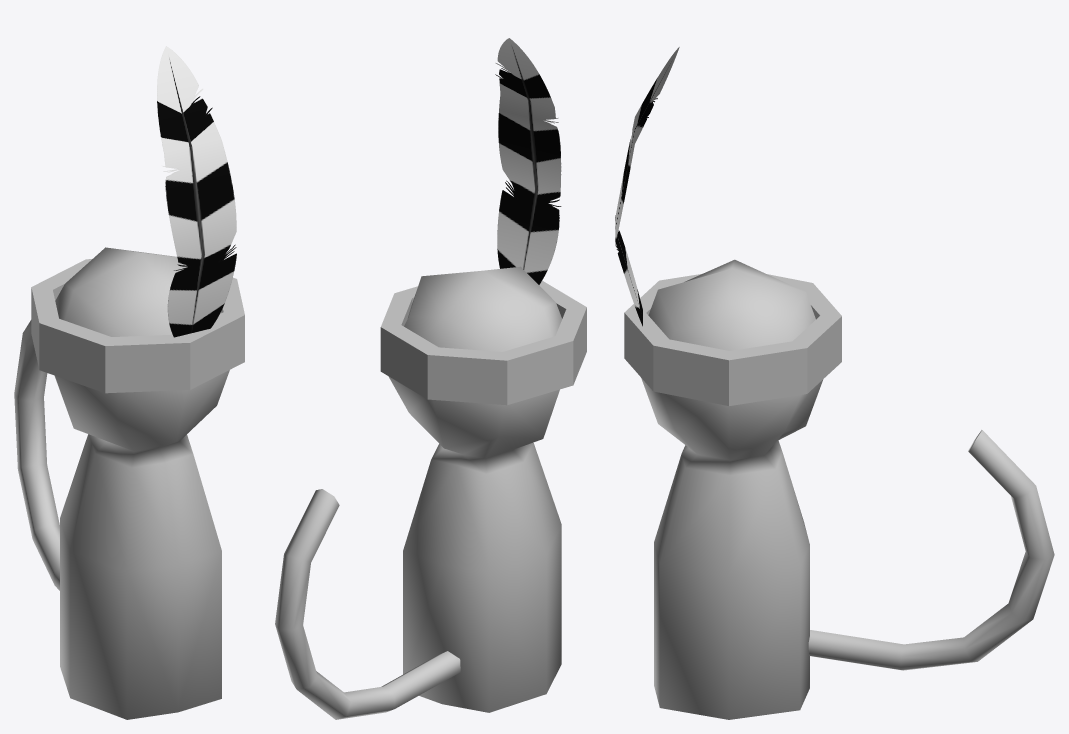
The model's file is Macaco Rei.fbx.
3 renders of one model, left to right at view 1: azimuth 30°, elevation 25°; view 2: azimuth 150°, elevation 25°; view 3: azimuth 270°, elevation 25°, orthographic. The views are drawn at different scales.
Visible parts, largest first — view 1: MacacoRei, Rabo_Macaco_Rei; view 2: MacacoRei, Rabo_Macaco_Rei; view 3: MacacoRei, Rabo_Macaco_Rei.
Part boxes in pixels (box(x1,y1,x2,y2)): MacacoRei: box(31, 46, 244, 719); Rabo_Macaco_Rei: box(14, 320, 59, 590); MacacoRei: box(380, 38, 586, 712); Rabo_Macaco_Rei: box(275, 489, 460, 719); MacacoRei: box(615, 47, 841, 719); Rabo_Macaco_Rei: box(808, 430, 1054, 670).
Size of the model in its own units: 3.88 by 12.91 by 7.83.
